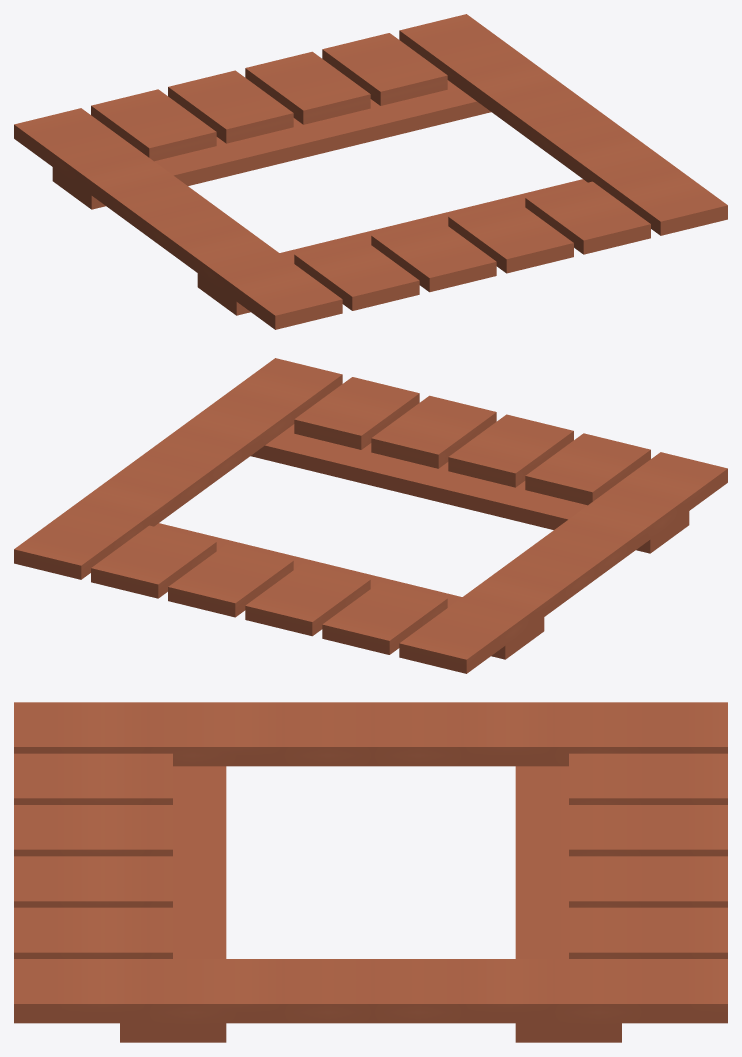
Rendered from planksOpening.fbx.
The picture shows the model from 3 angles, top to bottom: view 1: azimuth 30°, elevation 25°; view 2: azimuth 150°, elevation 25°; view 3: azimuth 270°, elevation 25°; orthographic projection. The views are drawn at different scales.
Visible parts, largest first — view 1: planksOpening; view 2: planksOpening; view 3: planksOpening.
Boxes of the visible parts, x1,y1,x2,y2 form: planksOpening: (14,14,727,329); planksOpening: (14,358,727,673); planksOpening: (14,702,727,1042).
Size of the model in its own units: 1 by 1 by 0.06.
